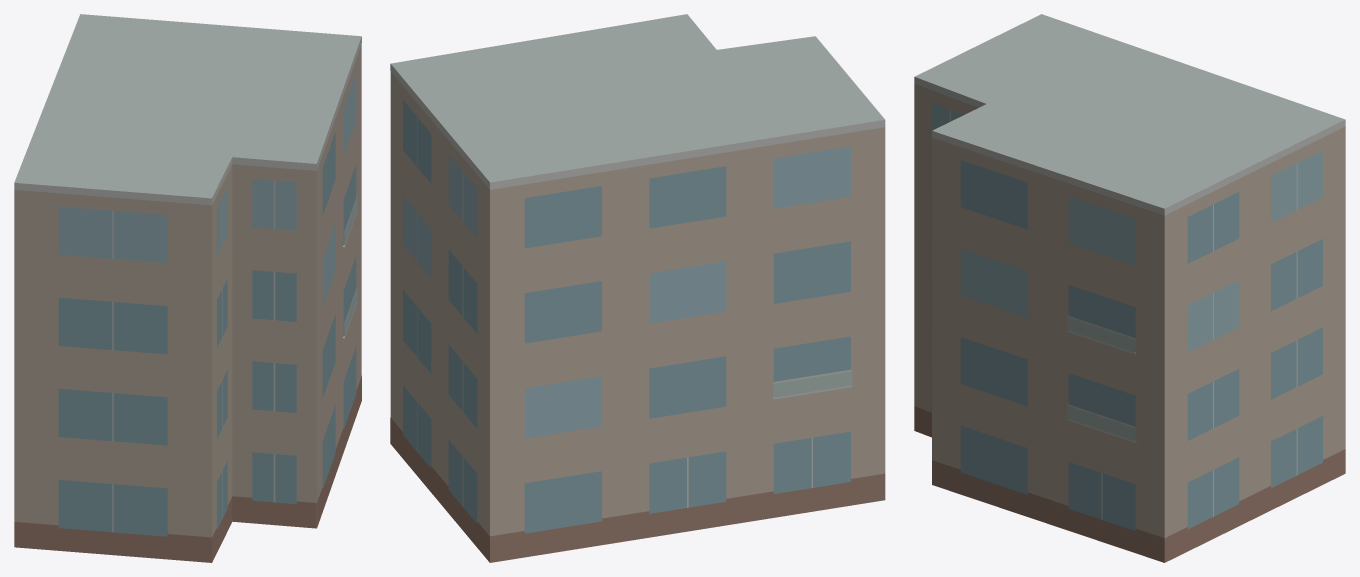
File: survey-upis-32621435.glb
3 renders of one model, left to right at view 1: azimuth 30°, elevation 25°; view 2: azimuth 150°, elevation 25°; view 3: azimuth 270°, elevation 25°, orthographic. The views are drawn at different scales.
Parts seen in each view (by area): view 1: survey-upis-32621435.tmp; view 2: survey-upis-32621435.tmp; view 3: survey-upis-32621435.tmp.
Part boxes in pixels (bbox=[...]): survey-upis-32621435.tmp: bbox=[14, 14, 361, 562]; survey-upis-32621435.tmp: bbox=[390, 14, 885, 562]; survey-upis-32621435.tmp: bbox=[914, 14, 1345, 562].
Bounding box in the file's own units: 14.99 × 12.7 × 14.02.
